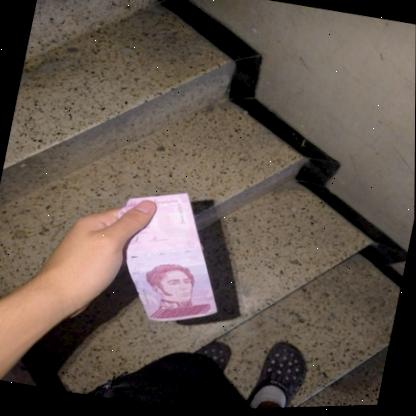one_hundred-front-vef: (96, 180, 240, 336)
